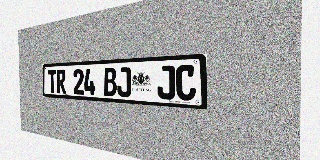2: (73, 69, 84, 95)
4: (84, 68, 95, 95)
B: (104, 68, 117, 97)
C: (176, 64, 196, 101)
J: (157, 65, 175, 100), (117, 67, 131, 97)
R: (56, 69, 66, 94)
T: (48, 70, 57, 93)
